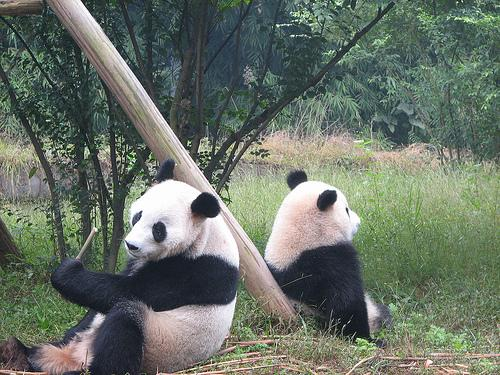panda: (0, 160, 238, 374), (264, 170, 390, 338)
